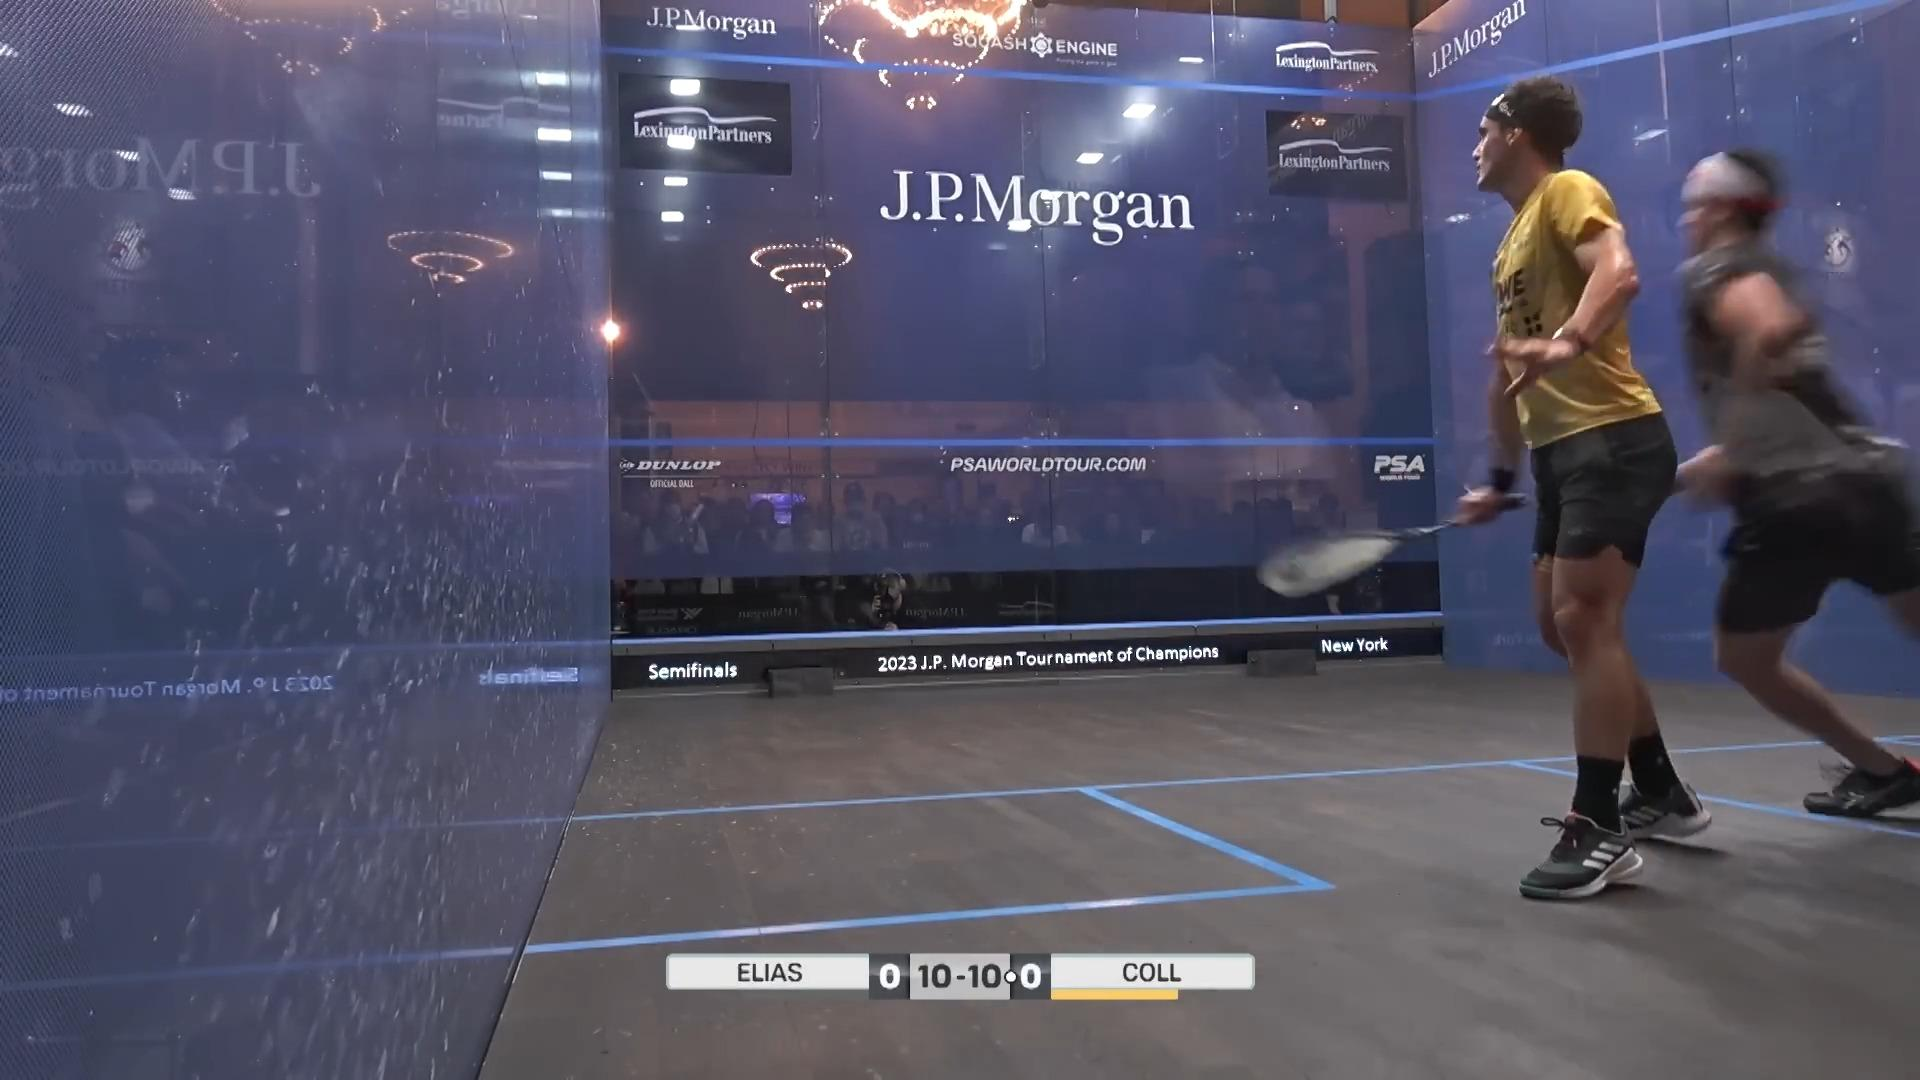Racket: (1249, 502, 1480, 600)
